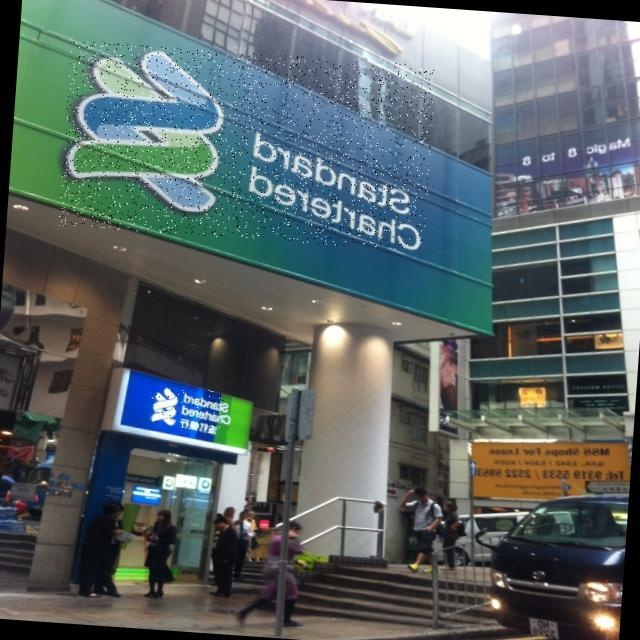Standard Chartered: (58, 40, 436, 251), (149, 385, 232, 430)
